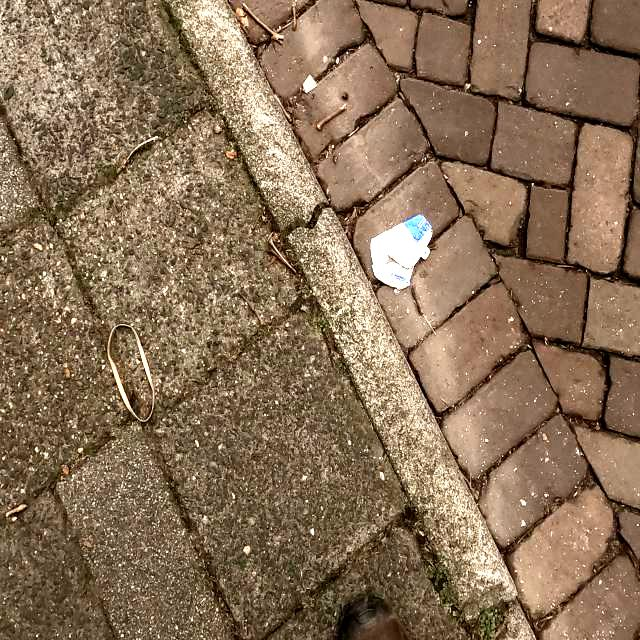Metal: (371, 212, 434, 290)
